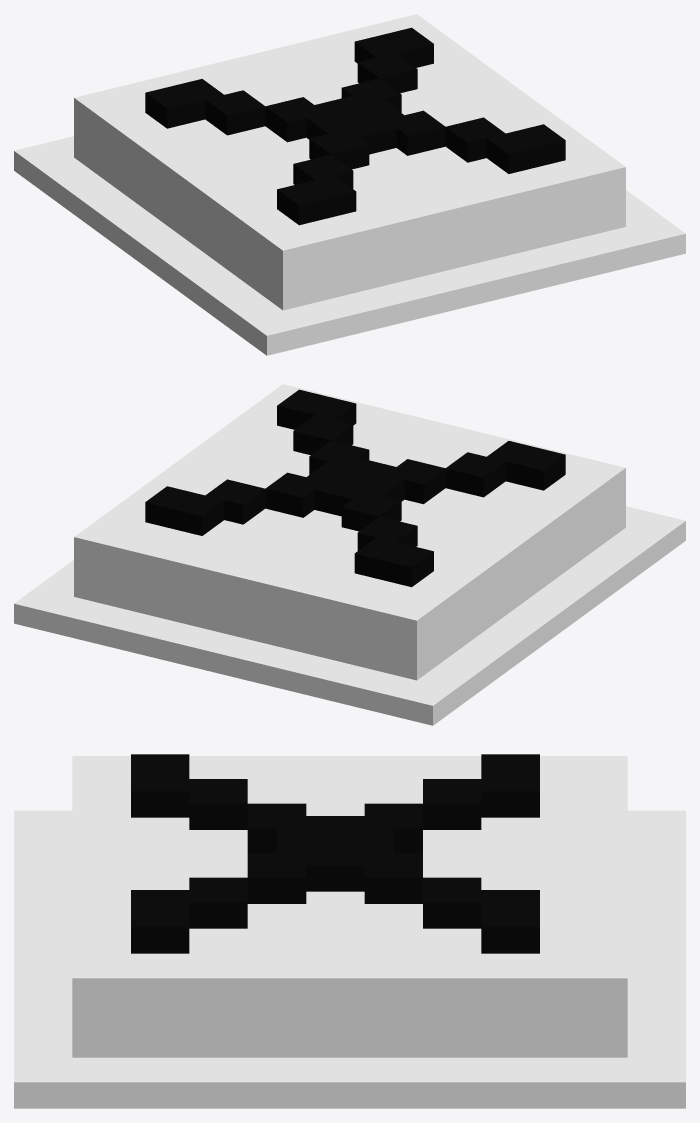
Rendered from Dismiss Button.gltf.
The picture shows the model from 3 angles, top to bottom: view 1: azimuth 30°, elevation 25°; view 2: azimuth 150°, elevation 25°; view 3: azimuth 270°, elevation 25°; orthographic projection. The views are drawn at different scales.
Parts seen in each view (by area): view 1: Layer.1; view 2: Layer.1; view 3: Layer.1.
Boxes of the visible parts, left/top/right/bottom form: Layer.1: left=14, top=14, right=685, bottom=355; Layer.1: left=14, top=384, right=685, bottom=725; Layer.1: left=14, top=754, right=685, bottom=1108.
Bounding box in the file's own units: 22 × 5 × 23.
1 material, 1 textured.
